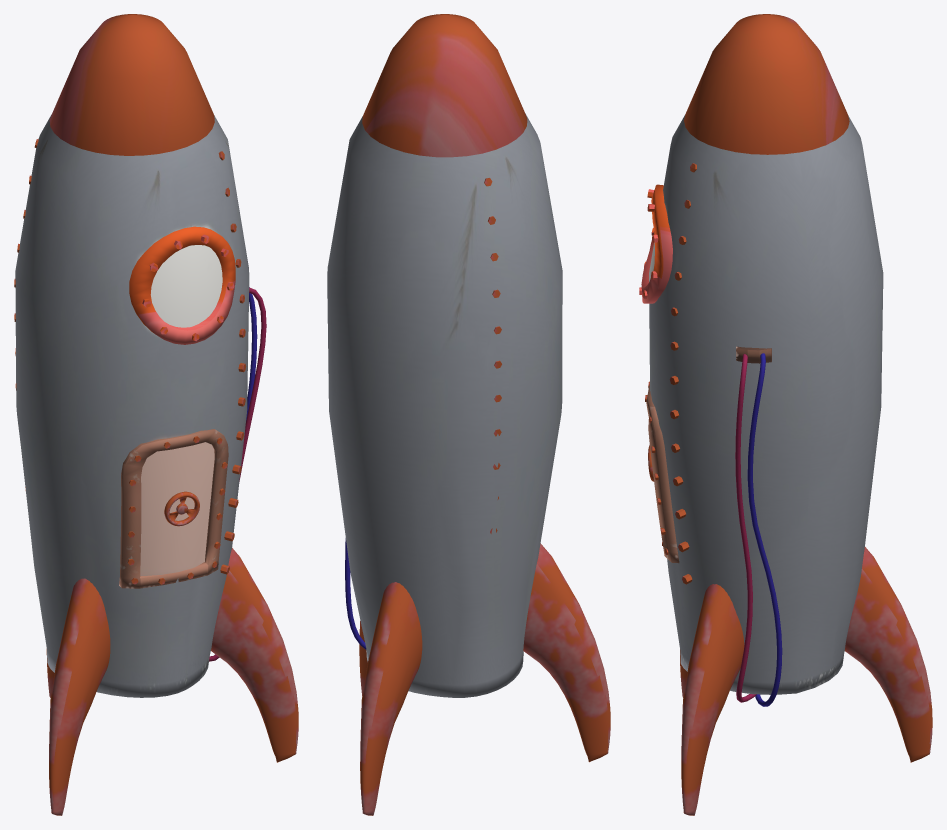
Rendered from rocket_ship.glb.
3 renders of one model, left to right at view 1: azimuth 30°, elevation 25°; view 2: azimuth 150°, elevation 25°; view 3: azimuth 270°, elevation 25°, orthographic.
Parts seen in each view (by area): view 1: Object_3, Object_2, Object_9, Object_5, Object_12, Object_11, Object_6, Object_8, Object_7, Object_10; view 2: Object_3, Object_2, Object_9, Object_7; view 3: Object_3, Object_2, Object_9, Object_5, Object_7, Object_12, Object_6, Object_11.
Part boxes in pixels (<box>): Object_3: <box>15,114,249,697</box>; Object_2: <box>46,548,298,815</box>; Object_9: <box>49,14,214,155</box>; Object_5: <box>119,429,228,588</box>; Object_12: <box>129,226,235,344</box>; Object_11: <box>14,139,246,584</box>; Object_6: <box>209,287,266,661</box>; Object_8: <box>164,491,199,526</box>; Object_7: <box>246,287,257,420</box>; Object_10: <box>142,234,234,341</box>; Object_3: <box>327,113,562,697</box>; Object_2: <box>359,543,610,815</box>; Object_9: <box>362,14,527,157</box>; Object_7: <box>345,538,366,649</box>; Object_3: <box>649,115,883,694</box>; Object_2: <box>680,547,932,815</box>; Object_9: <box>684,14,849,154</box>; Object_5: <box>646,384,679,563</box>; Object_7: <box>747,353,782,706</box>; Object_12: <box>641,184,672,303</box>; Object_6: <box>735,354,756,702</box>; Object_11: <box>645,163,696,584</box>.
Size of the model in its own units: 2.42 by 6.94 by 2.47.
11 materials, 11 textured.
